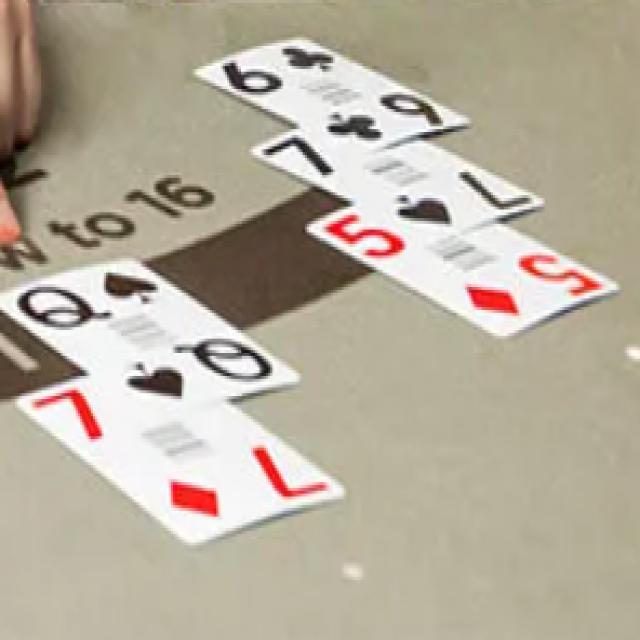Card-5: (303, 203, 620, 336)
Card-6: (192, 34, 470, 156)
Card-7: (15, 375, 347, 547), (249, 126, 544, 245)
Card-Q: (1, 255, 300, 425)
